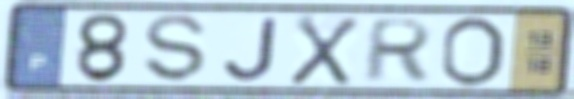8: (74, 12, 131, 85)
J: (220, 15, 281, 83)
O: (437, 14, 507, 89)
R: (358, 17, 438, 85)
S: (141, 12, 211, 84)
X: (286, 12, 363, 88)
